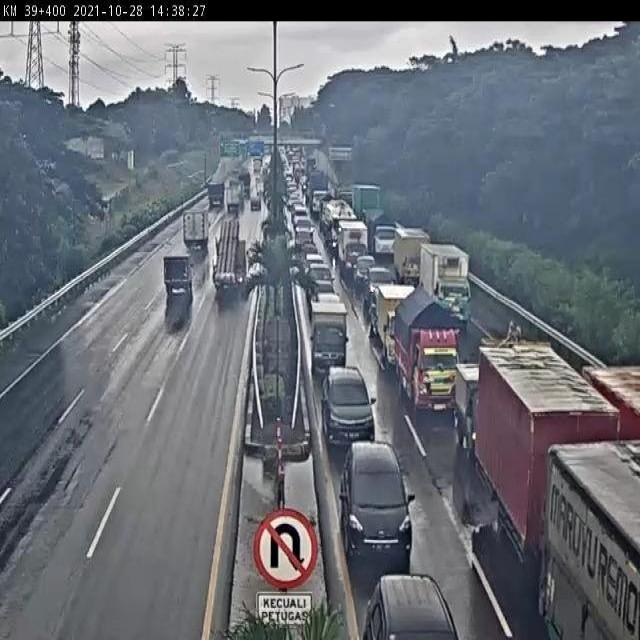big truck: (353, 182, 390, 230), (366, 208, 397, 261)
car: (332, 432, 421, 544), (358, 566, 457, 640), (318, 355, 377, 429), (359, 262, 398, 306), (304, 261, 337, 287), (349, 255, 377, 285), (309, 289, 344, 307), (244, 189, 262, 212), (297, 239, 320, 257), (298, 219, 317, 240)
small truck: (474, 343, 604, 549), (543, 442, 638, 640), (395, 284, 463, 401), (573, 348, 640, 445), (418, 236, 477, 332), (374, 281, 417, 371), (204, 220, 245, 305), (448, 358, 485, 451), (304, 300, 353, 361), (158, 245, 197, 303), (391, 227, 426, 285), (333, 218, 371, 266), (174, 208, 210, 256)
